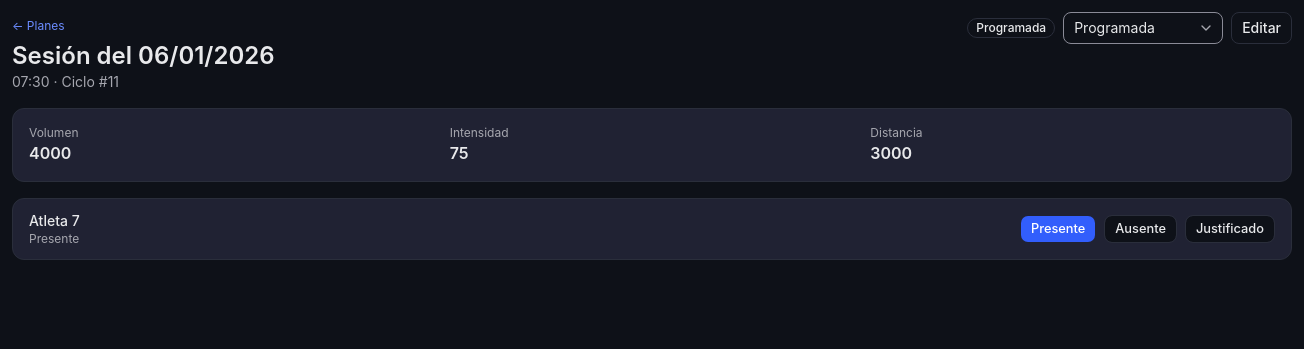
SessionDetailPage — estado y borrado › cambio de estado: PUT .../status con solo { status } (T3.2)
Step 1. Click the dropdown with test id "session-status-select" → (1143, 28), box [1063,12,1223,44]
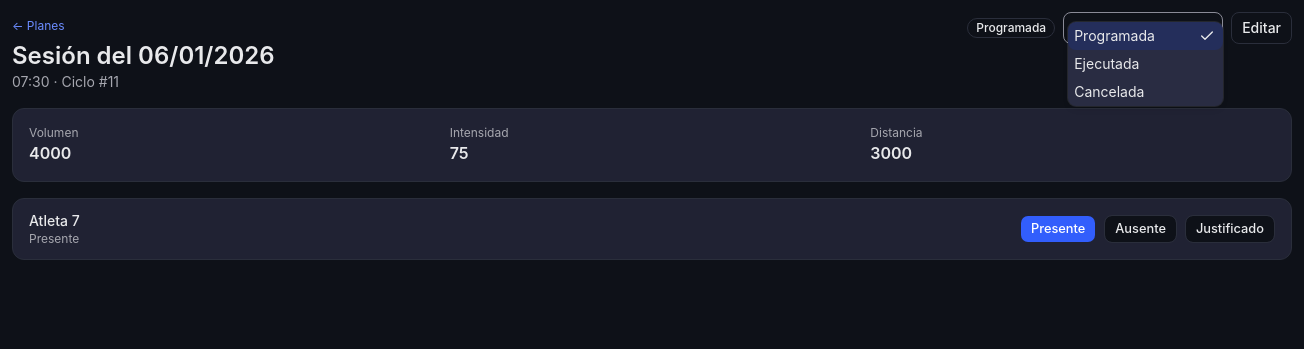
Step 2. Click the option "Cancelada" → (1109, 92), box [1074,83,1144,100]
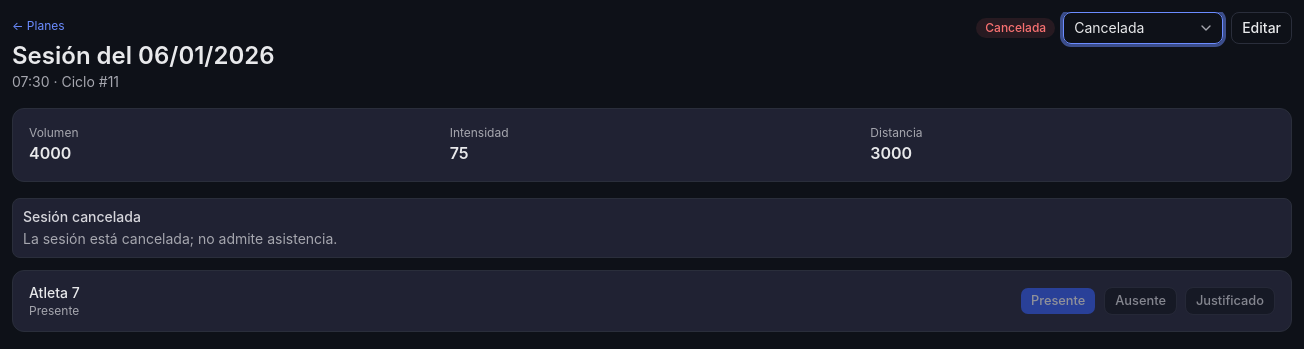
Expected: the message "Sesión cancelada La sesión está cancelada; no admite asistencia." is shown, [12,198,1292,258]
